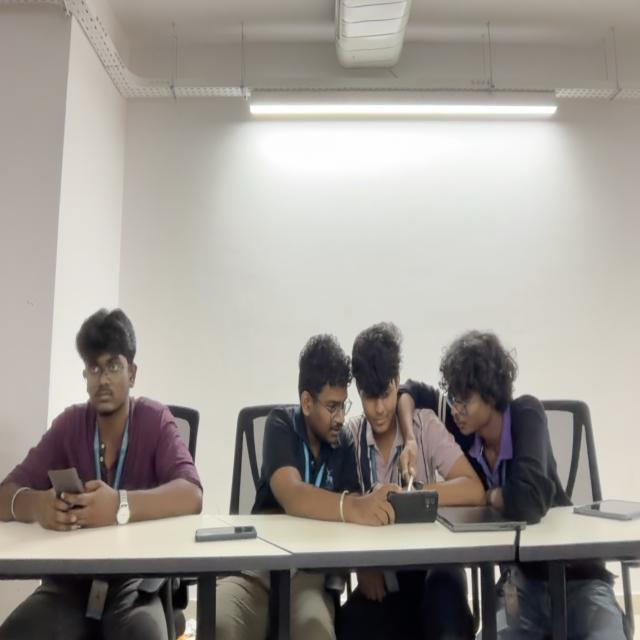Isolated: (0, 306, 203, 531)
socializing: (259, 322, 557, 521)
